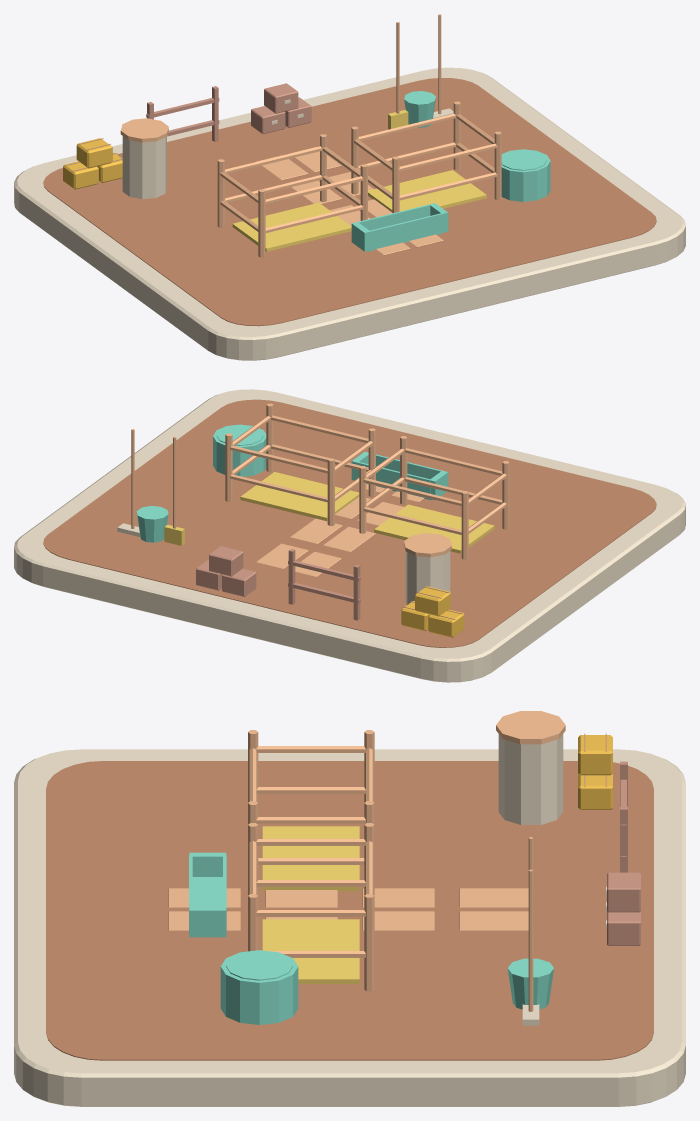
Rendered from room.fbx.
The picture shows the model from 3 angles, top to bottom: view 1: azimuth 30°, elevation 25°; view 2: azimuth 150°, elevation 25°; view 3: azimuth 270°, elevation 25°; orthographic projection. The views are drawn at different scales.
Visible parts, largest first — view 1: COM-02 Floor Surface, COM-01 Rounded Base Direct, Bedding zone, Feed bin, Bedding zone.001, Water tub, Bin end, Lid, Bucket, Hay bale.002, Stacked case.002, Bin end.001 (+12 smaller); view 2: COM-02 Floor Surface, COM-01 Rounded Base Direct, Bedding zone.001, Bedding zone, Feed bin, Water tub, Bucket, Lid, Hay bale.002, Stacked case.002, Hay bale, Stacked case (+21 smaller); view 3: COM-02 Floor Surface, COM-01 Rounded Base Direct, Feed bin, Bedding zone.001, Bedding zone, Water tub, Lid, Bucket, Water surface, Hay bale.002, Path stone.006, Path stone.007 (+21 smaller).
Part boxes in pixels (bbox=[...]): COM-02 Floor Surface: bbox=[43, 78, 656, 326]; COM-01 Rounded Base Direct: bbox=[14, 67, 685, 360]; Bedding zone: bbox=[232, 202, 351, 251]; Feed bin: bbox=[122, 136, 166, 199]; Bedding zone.001: bbox=[368, 170, 486, 211]; Water tub: bbox=[501, 149, 550, 201]; Bin end: bbox=[369, 213, 443, 250]; Lid: bbox=[120, 118, 168, 142]; Bucket: bbox=[404, 91, 435, 127]; Hay bale.002: bbox=[76, 138, 112, 168]; Stacked case.002: bbox=[264, 83, 298, 113]; Bin end.001: bbox=[356, 204, 431, 230]; COM-02 Floor Surface: bbox=[43, 399, 656, 647]; COM-01 Rounded Base Direct: bbox=[14, 389, 685, 682]; Bedding zone.001: bbox=[240, 472, 359, 520]; Bedding zone: bbox=[374, 504, 494, 553]; Feed bin: bbox=[405, 551, 450, 605]; Water tub: bbox=[213, 424, 266, 476]; Bucket: bbox=[136, 506, 168, 542]; Lid: bbox=[404, 533, 451, 557]; Hay bale.002: bbox=[415, 586, 450, 616]; Stacked case.002: bbox=[209, 546, 243, 576]; Hay bale: bbox=[428, 609, 464, 637]; Stacked case: bbox=[222, 568, 256, 596]; COM-02 Floor Surface: bbox=[46, 761, 653, 1060]; COM-01 Rounded Base Direct: bbox=[14, 749, 685, 1106]; Feed bin: bbox=[498, 734, 563, 824]; Bedding zone.001: bbox=[262, 919, 359, 983]; Bedding zone: bbox=[262, 826, 359, 891]; Water tub: bbox=[220, 950, 298, 1024]; Lid: bbox=[496, 711, 565, 744]; Bucket: bbox=[507, 958, 553, 1009]; Water surface: bbox=[226, 951, 292, 980]; Hay bale.002: bbox=[578, 735, 612, 775]; Path stone.006: bbox=[459, 888, 528, 907]; Path stone.007: bbox=[459, 911, 528, 930].
Bounding box in the file's own units: 600 × 158 × 520.
